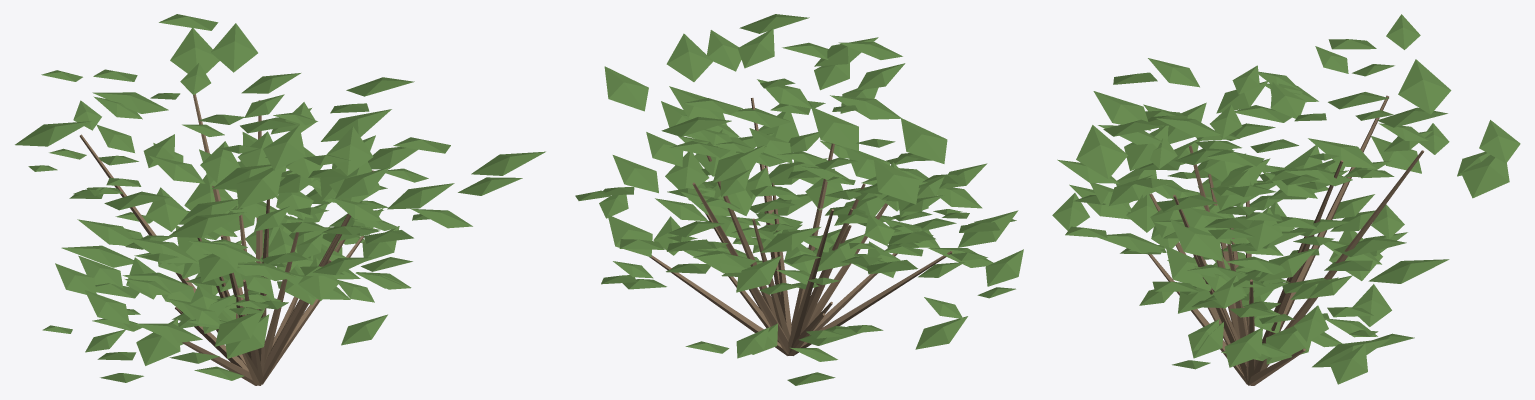
Rendered from shrub.glb.
The picture shows the model from 3 angles, left to right: view 1: azimuth 30°, elevation 25°; view 2: azimuth 150°, elevation 25°; view 3: azimuth 270°, elevation 25°; orthographic projection. The views are drawn at different scales.
Parts seen in each view (by area): view 1: shrub; view 2: shrub; view 3: shrub.
Boxes of the visible parts, x1,y1,x2,y2 form: shrub: (15, 14, 545, 385); shrub: (575, 14, 1023, 385); shrub: (1052, 14, 1520, 385).
Bounding box in the file's own units: 1.8 × 1.13 × 1.52.
